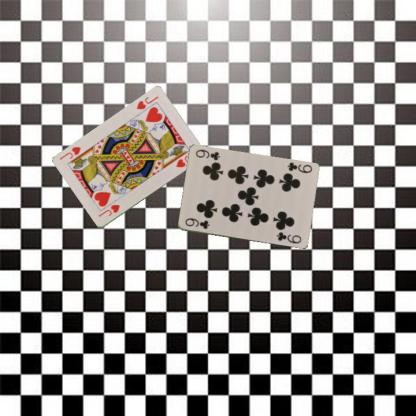9c: (284, 160, 313, 175), (182, 216, 210, 230)
Jh: (134, 94, 160, 111), (96, 203, 122, 219)
